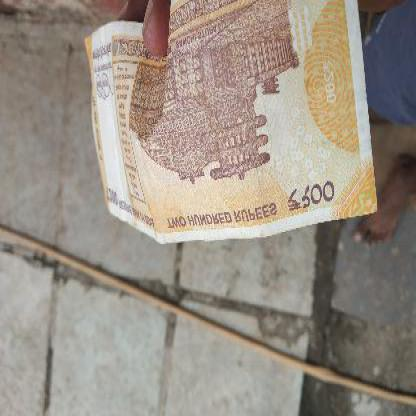New200Back: (86, 6, 378, 242)
